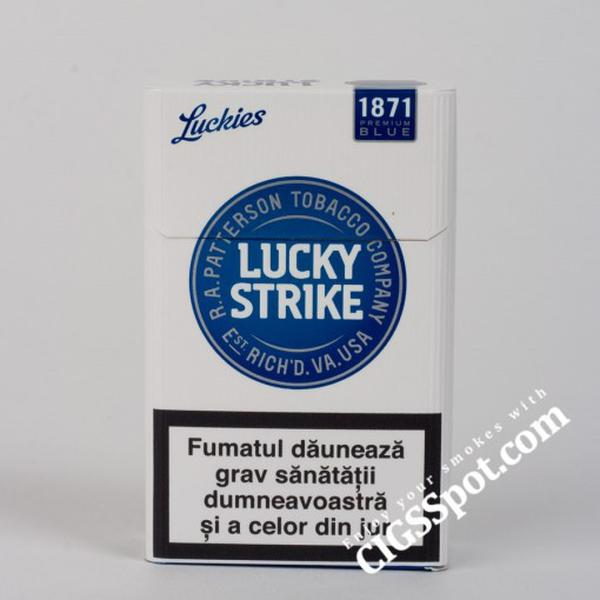lucky_strike_blue: (150, 91, 443, 567)
